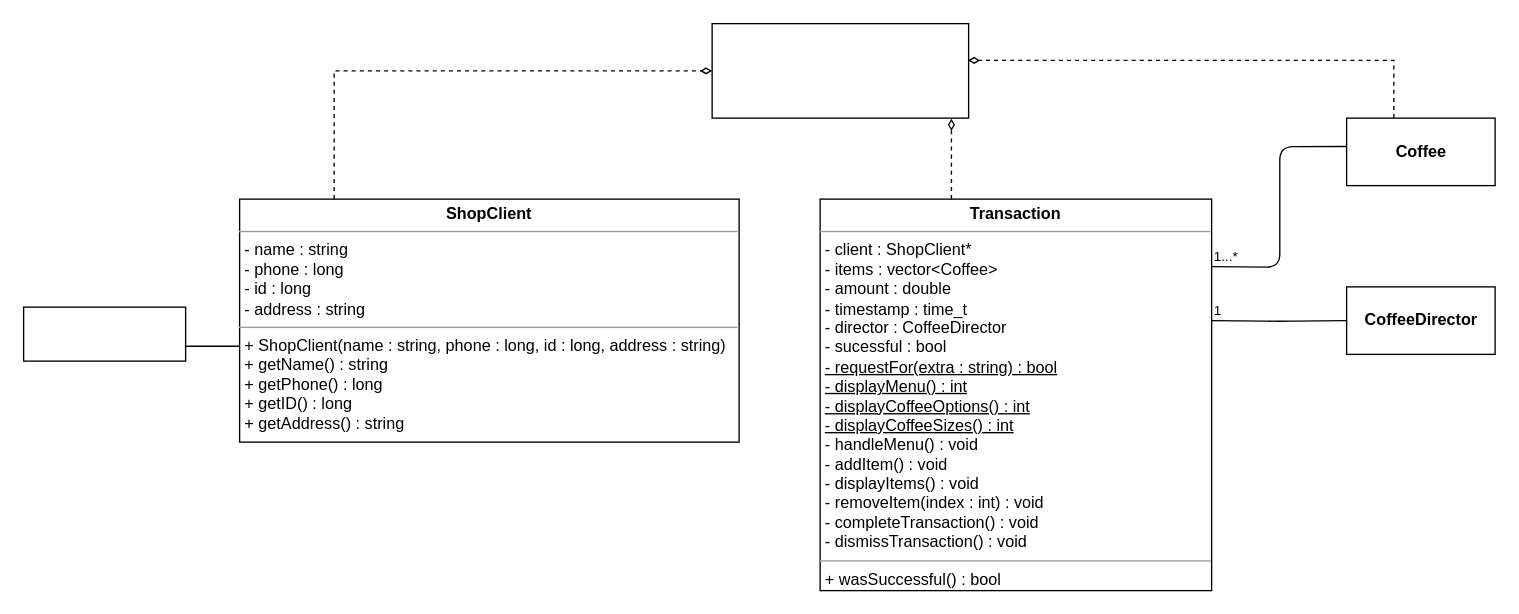
Some shapes in this 1519 by 614 pixel diagram are drawn without their labels. Each missing label, with the centre of its shape:
"<<Interface>> IJSONizable + toJSON(): json" belongs at point 840,70.
"Only Constructor" belongs at point 104,333.
